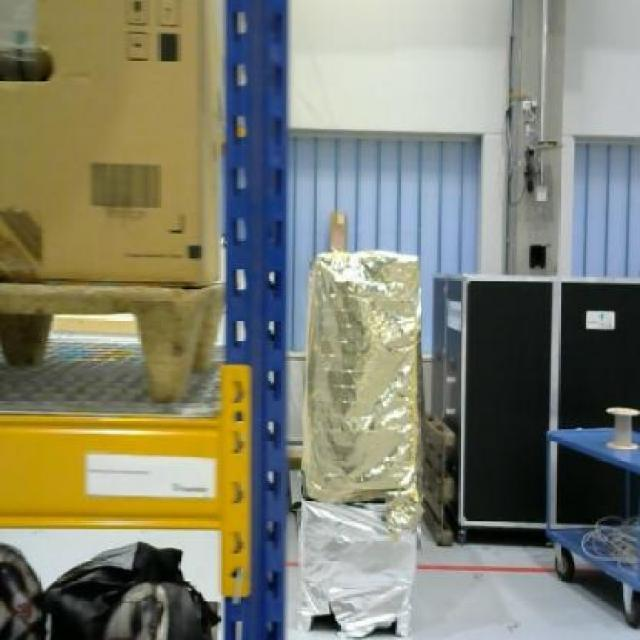box: (0, 0, 218, 284)
